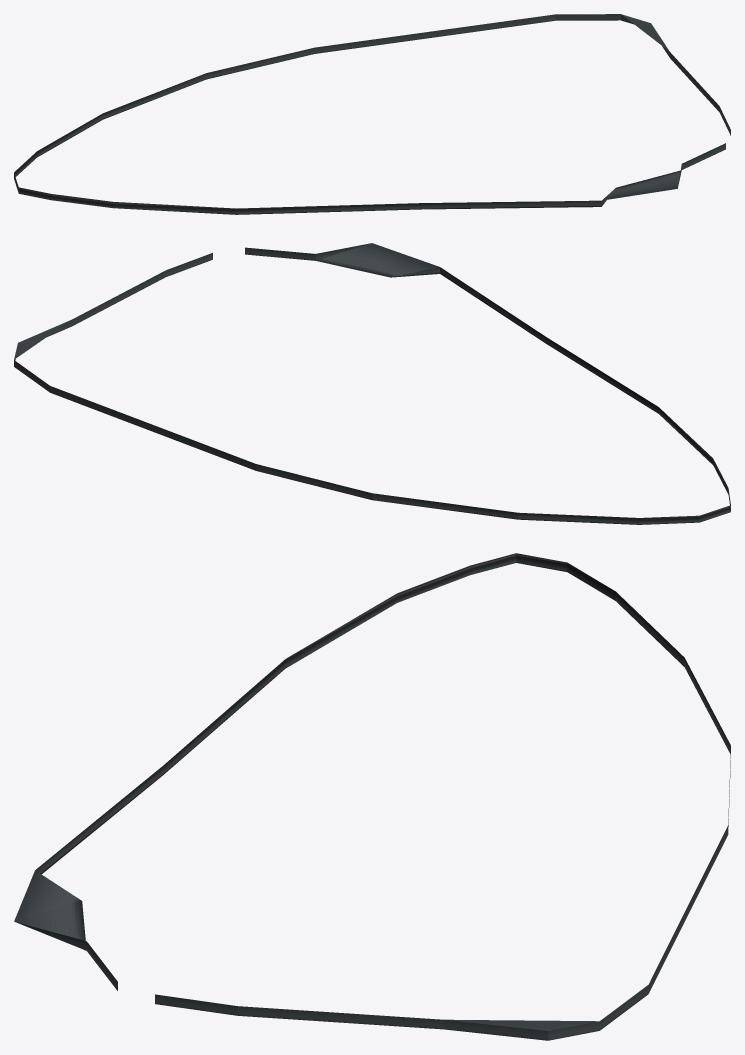
Rendered from CZPlat_4_Lat.gltf.
3 renders of one model, top to bottom at view 1: azimuth 30°, elevation 25°; view 2: azimuth 150°, elevation 25°; view 3: azimuth 270°, elevation 25°, orthographic. The views are drawn at different scales.
Parts seen in each view (by area): view 1: CZPlat_4_Lat; view 2: CZPlat_4_Lat; view 3: CZPlat_4_Lat.
Part boxes in pixels (x1,y1,x2,y2): CZPlat_4_Lat: [14, 14, 730, 214]; CZPlat_4_Lat: [14, 243, 730, 524]; CZPlat_4_Lat: [14, 553, 730, 1040].
Bounding box in the file's own units: 63.27 × 0.7695 × 40.17.
Materials: 1 (1 with a texture image).
